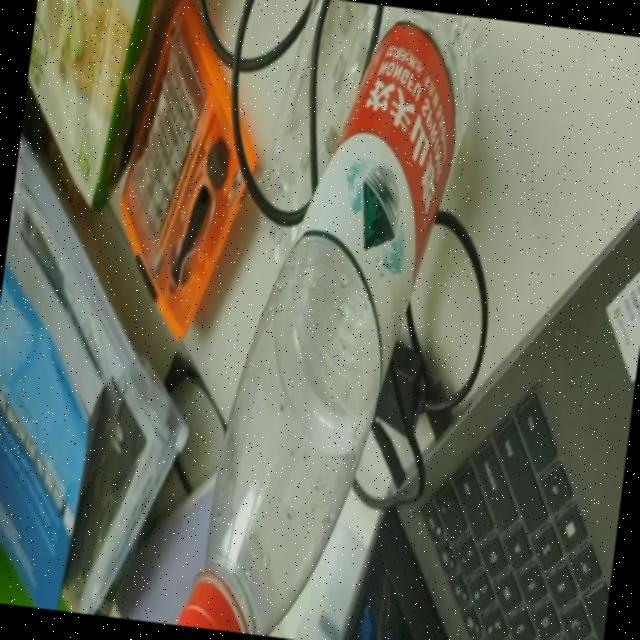bottle: (179, 0, 484, 640)
cap: (178, 577, 257, 634)
label: (270, 18, 472, 338)
